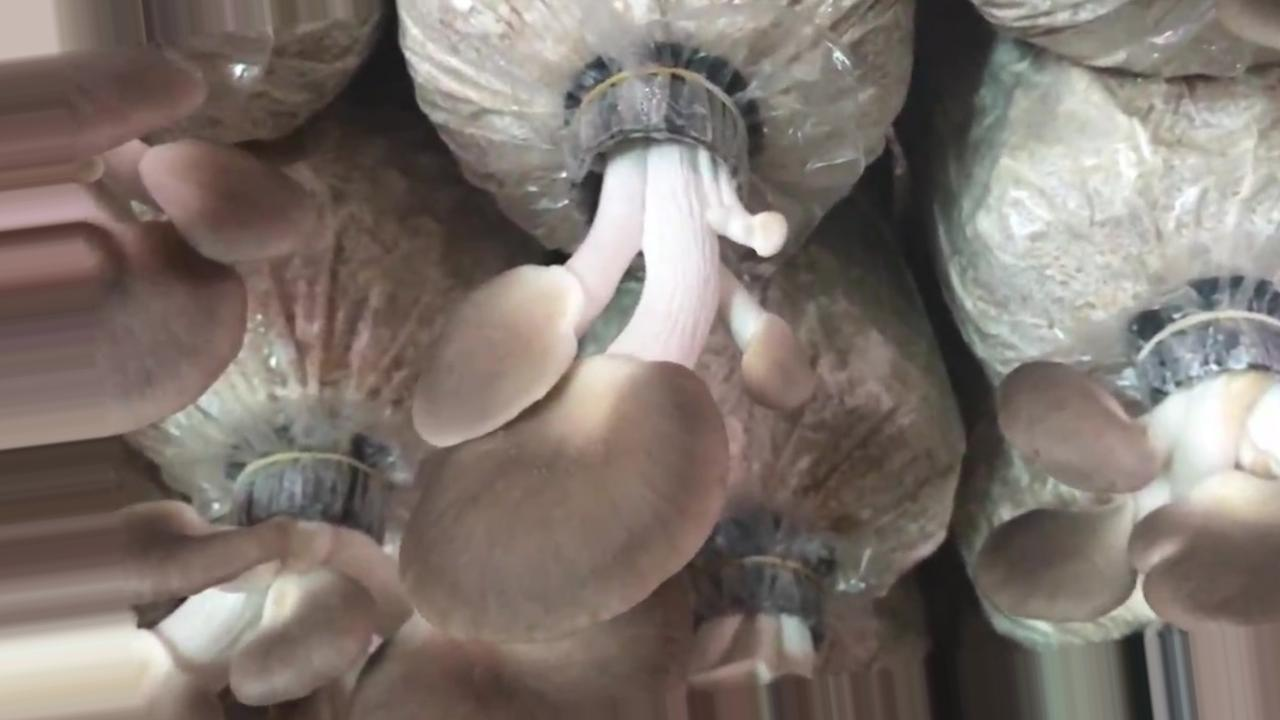nam: (395, 75, 821, 643), (1, 455, 685, 716), (2, 1, 332, 455), (971, 312, 1280, 624), (684, 525, 863, 720)
